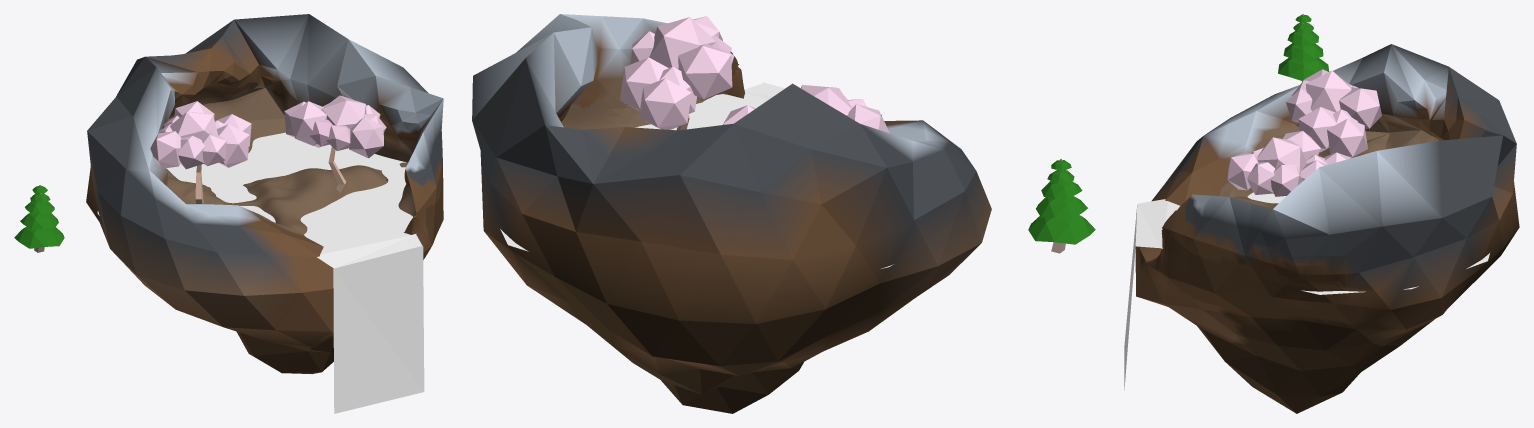
The model's file is Floating Island Mid Poly .fbx.
3 renders of one model, left to right at view 1: azimuth 30°, elevation 25°; view 2: azimuth 150°, elevation 25°; view 3: azimuth 270°, elevation 25°, orthographic. The views are drawn at different scales.
Parts seen in each view (by area): view 1: Island, Water Plane, Tree 1.001, Tree 1, Tree 2; view 2: Island, Tree 1, Tree 2, Water Plane, Tree 1.001; view 3: Island, Tree 1.001, Tree 1, Water Plane, Tree 2.
Boxes of the visible parts, x1,y1,x2,y2 form: Island: (86,14,443,373); Water Plane: (97,132,424,413); Tree 1.001: (150,101,251,203); Tree 1: (284,95,386,193); Tree 2: (14,185,64,252); Island: (472,14,991,413); Tree 1: (620,16,734,130); Tree 2: (1028,159,1095,253); Water Plane: (480,82,893,268); Tree 1.001: (723,85,889,133); Island: (1135,44,1519,413); Tree 1.001: (1286,69,1381,158); Tree 1: (1227,131,1350,196); Water Plane: (1124,192,1489,390); Tree 2: (1278,14,1329,81).
Size of the model in its own units: 2623 by 1783 by 2035.
